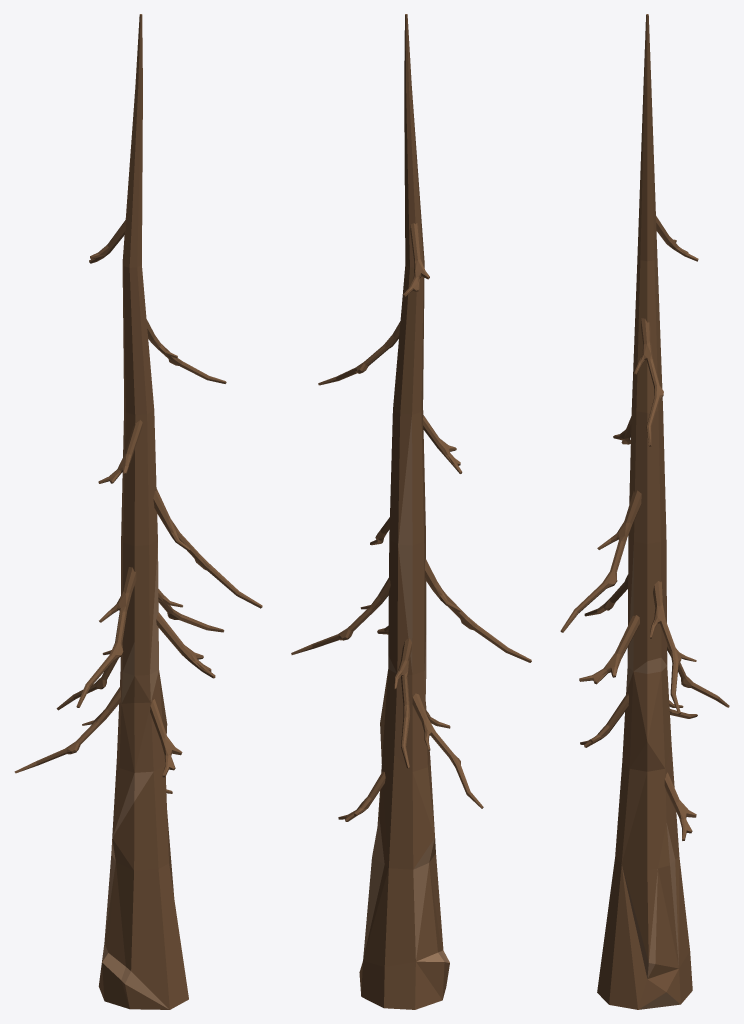
File: mesh_tree_pine_03_dead.fbx
3 views of the same model, side by side, from view 1: azimuth 30°, elevation 25°; view 2: azimuth 150°, elevation 25°; view 3: azimuth 270°, elevation 25° (orthographic).
Parts seen in each view (by area): view 1: mesh_tree_pine_03_dead_LOD0; view 2: mesh_tree_pine_03_dead_LOD0; view 3: mesh_tree_pine_03_dead_LOD0.
Boxes of the visible parts, <box> form: mesh_tree_pine_03_dead_LOD0: <box>14,14,262,1009</box>; mesh_tree_pine_03_dead_LOD0: <box>291,14,531,1009</box>; mesh_tree_pine_03_dead_LOD0: <box>560,14,729,1009</box>.
Size of what is drawn, in the model's own units: 2.93 by 13.63 by 2.14.
